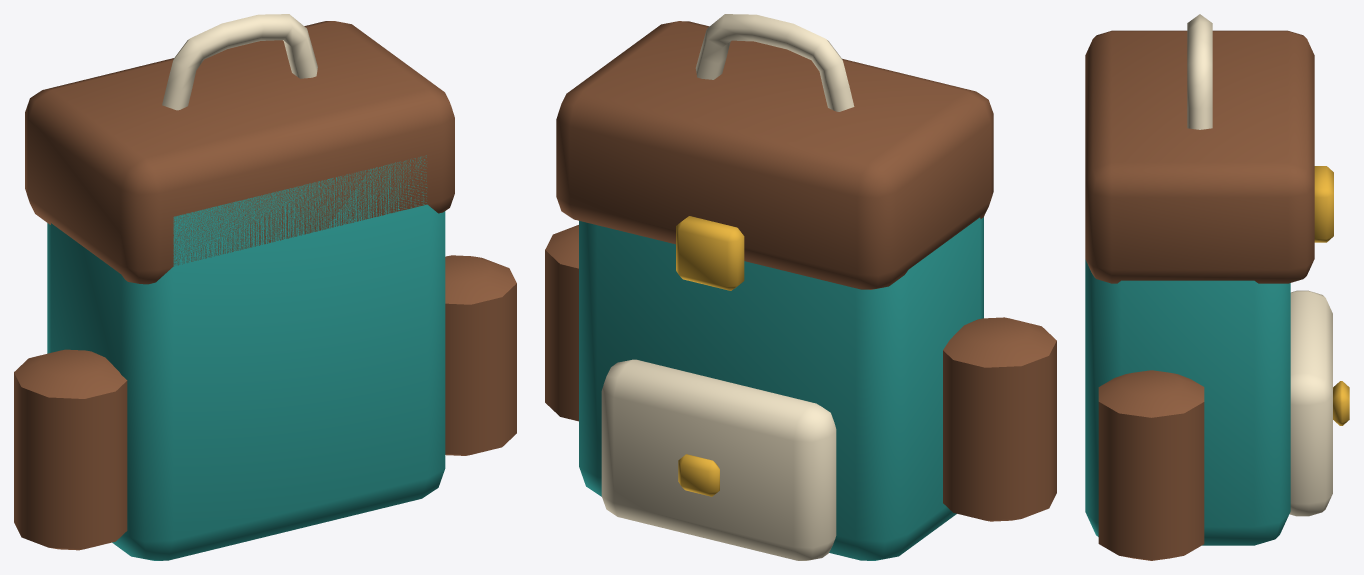
Rendered from back_backpack.glb.
The picture shows the model from 3 angles, left to right: view 1: azimuth 30°, elevation 25°; view 2: azimuth 150°, elevation 25°; view 3: azimuth 270°, elevation 25°; orthographic projection. The views are drawn at different scales.
Parts seen in each view (by area): view 1: Pack, Flap, Pouches, Handle; view 2: Flap, Pack, Pocket, Pouches, Handle, Buckles; view 3: Flap, Pack, Pouches, Pocket, Handle, Buckles.
Part boxes in pixels (x1=…): Pack: x1=47, y1=155, x2=445, y2=560; Flap: x1=25, y1=21, x2=454, y2=284; Pouches: x1=14, y1=255, x2=516, y2=550; Handle: x1=162, y1=14, x2=317, y2=110; Flap: x1=556, y1=21, x2=993, y2=289; Pack: x1=579, y1=217, x2=983, y2=560; Pocket: x1=601, y1=359, x2=836, y2=560; Pouches: x1=545, y1=225, x2=1056, y2=521; Handle: x1=695, y1=14, x2=854, y2=111; Buckles: x1=676, y1=216, x2=744, y2=496; Flap: x1=1085, y1=30, x2=1314, y2=283; Pack: x1=1085, y1=259, x2=1290, y2=545; Pouches: x1=1098, y1=370, x2=1204, y2=560; Pocket: x1=1289, y1=290, x2=1332, y2=516; Handle: x1=1187, y1=14, x2=1212, y2=129; Buckles: x1=1314, y1=166, x2=1349, y2=425.
Bounding box in the file's own units: 0.4419 × 0.416 × 0.219.
